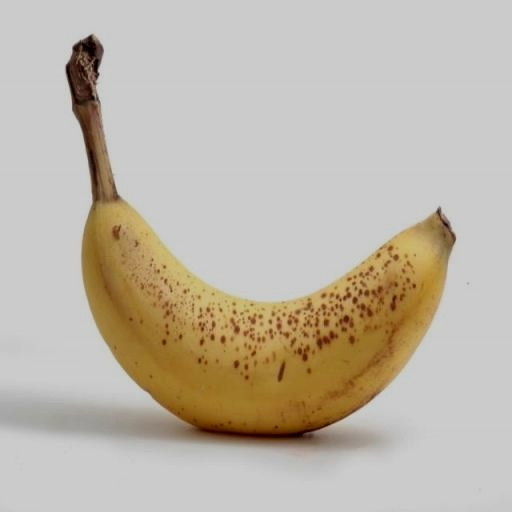fruit: (66, 36, 453, 434)
